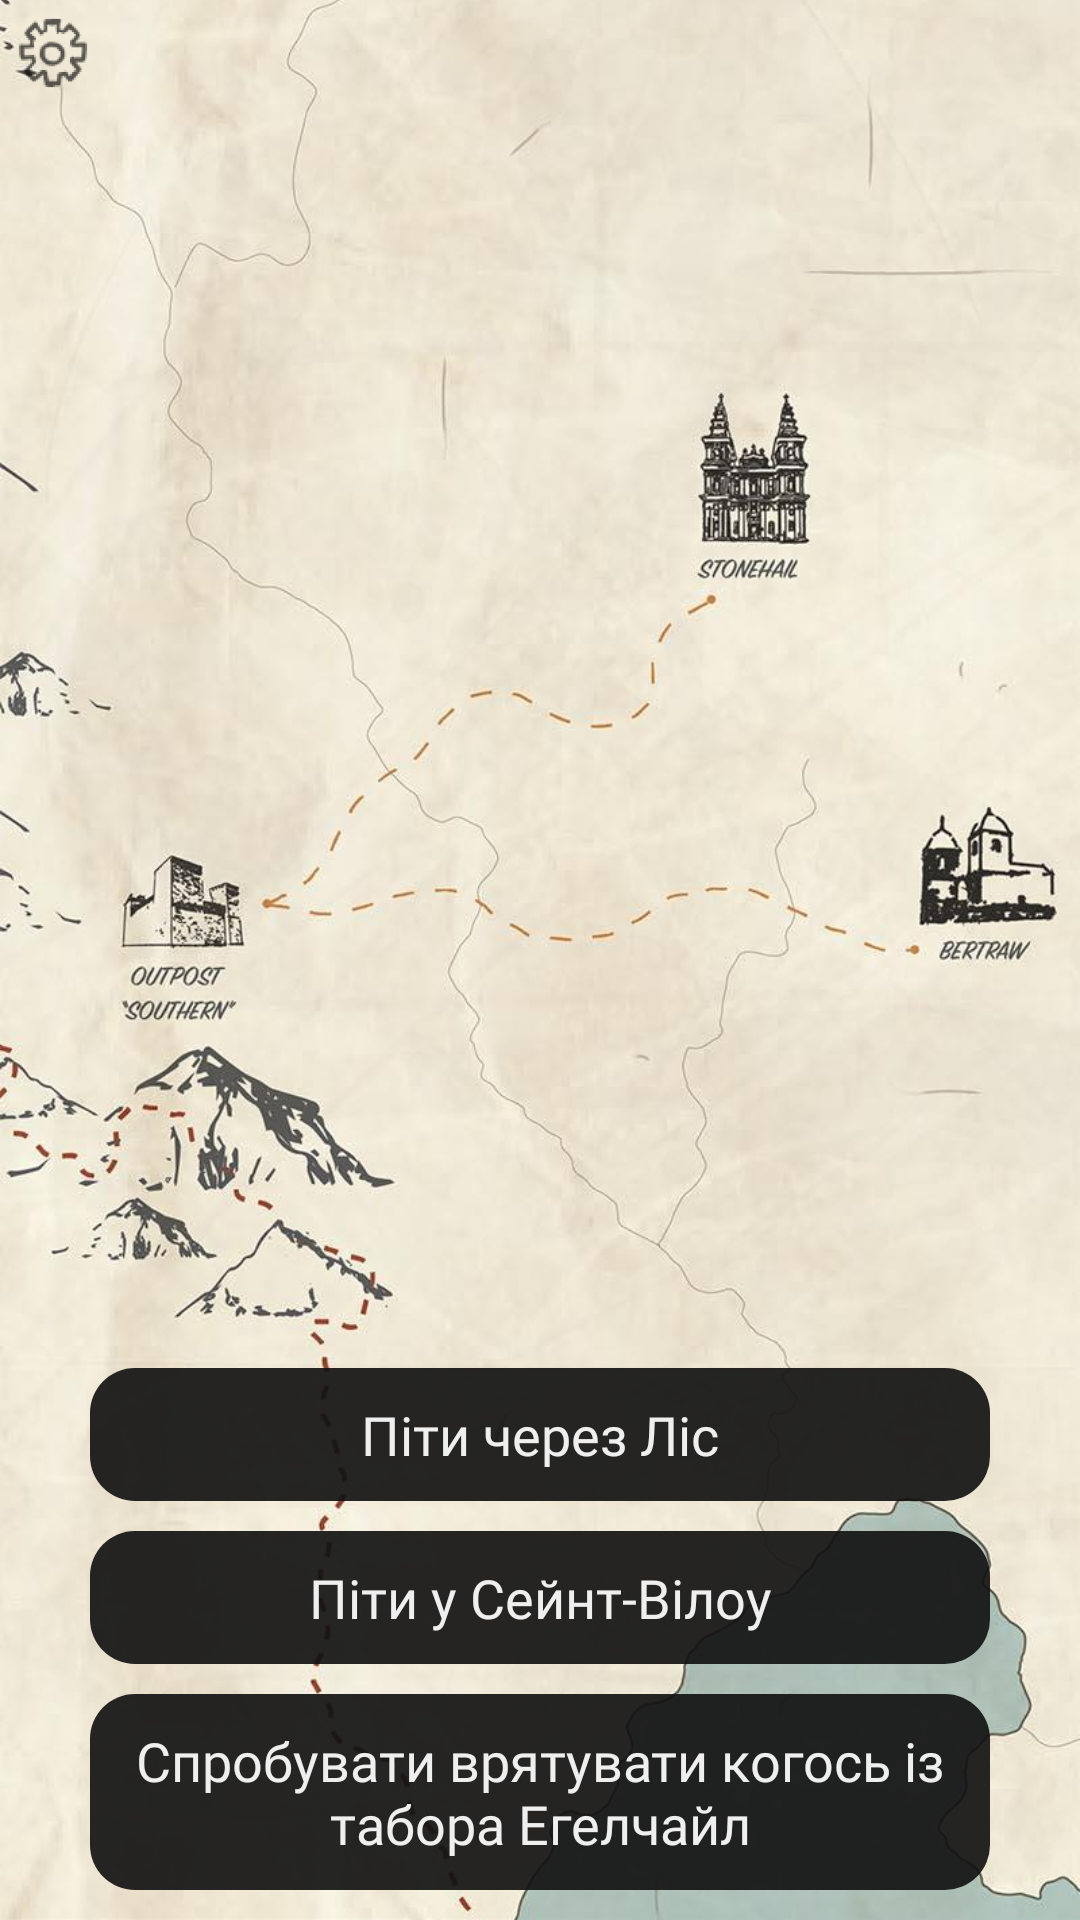

Locate icon controls on the screen. Image size 1080 x 1920, boxes as (x1, y1, x2, y2).
settings: (16, 19, 87, 90)
